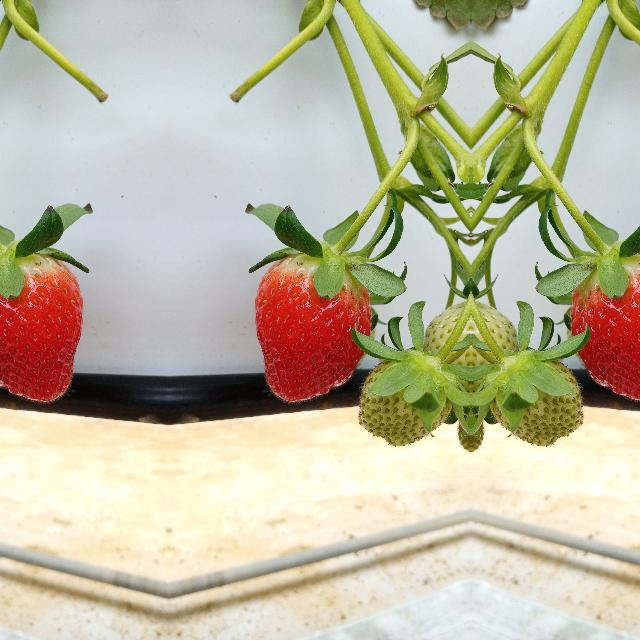Health_100: (252, 253, 370, 405), (0, 253, 84, 405), (571, 253, 640, 405)
Health_25: (501, 346, 582, 448), (360, 346, 440, 448)
